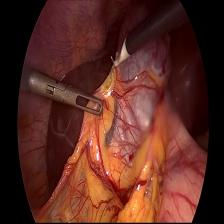Grasper: (44, 78, 104, 119)
Hook: (107, 34, 132, 71)
